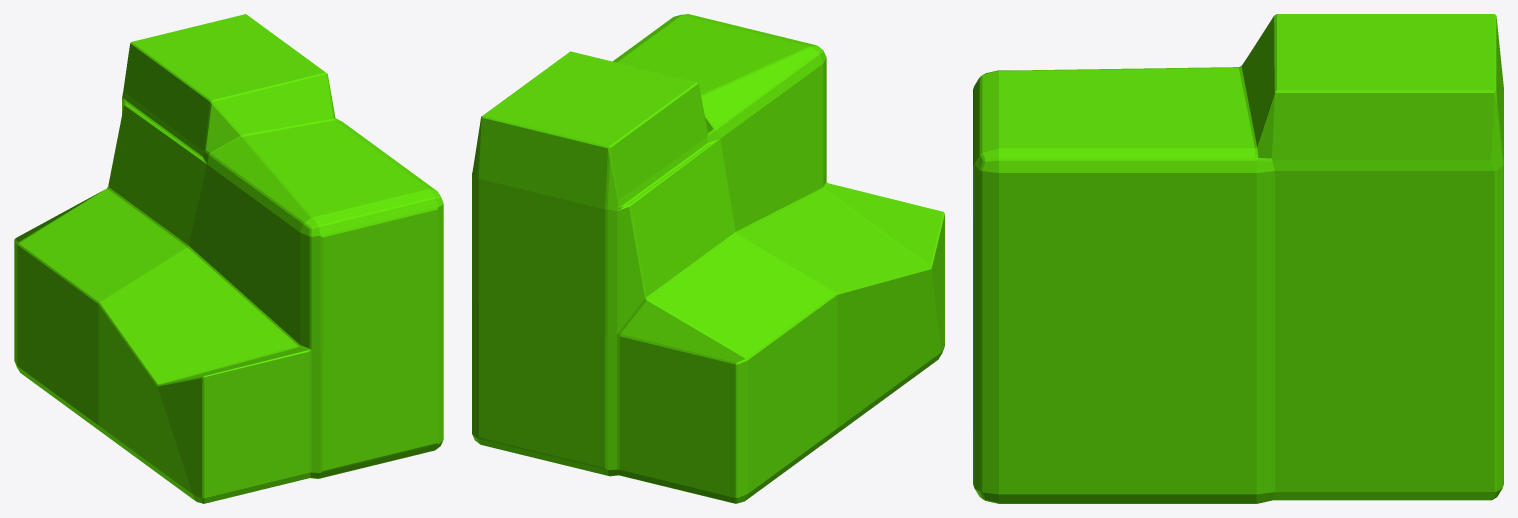
File: SM_Castle_Wall4.fbx
3 views of the same model, side by side, from view 1: azimuth 30°, elevation 25°; view 2: azimuth 150°, elevation 25°; view 3: azimuth 270°, elevation 25° (orthographic). The views are drawn at different scales.
Parts seen in each view (by area): view 1: Cube.013; view 2: Cube.013; view 3: Cube.013.
Part boxes in pixels (left/top/right/bottom): Cube.013: left=14, top=14, right=443, bottom=503; Cube.013: left=472, top=14, right=944, bottom=503; Cube.013: left=973, top=14, right=1503, bottom=503.
Bounding box in the file's own units: 182 × 201 × 235.
